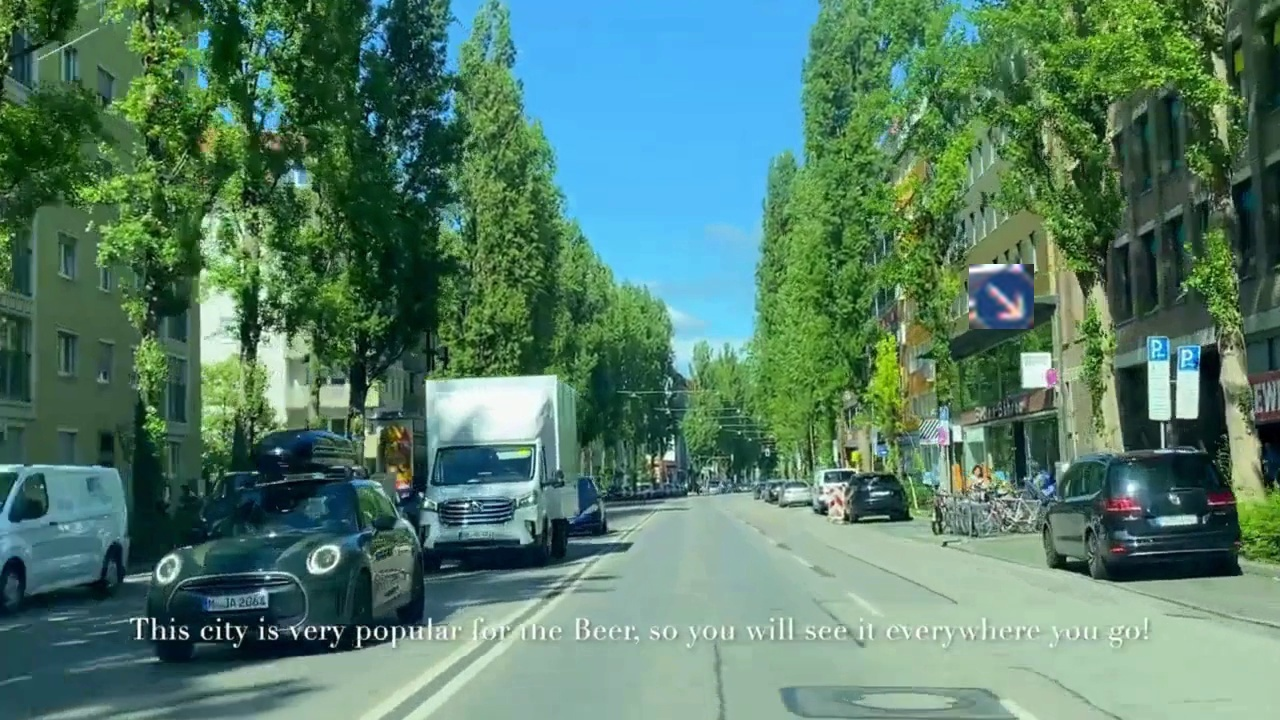Keep right: (969, 264, 1034, 329)
